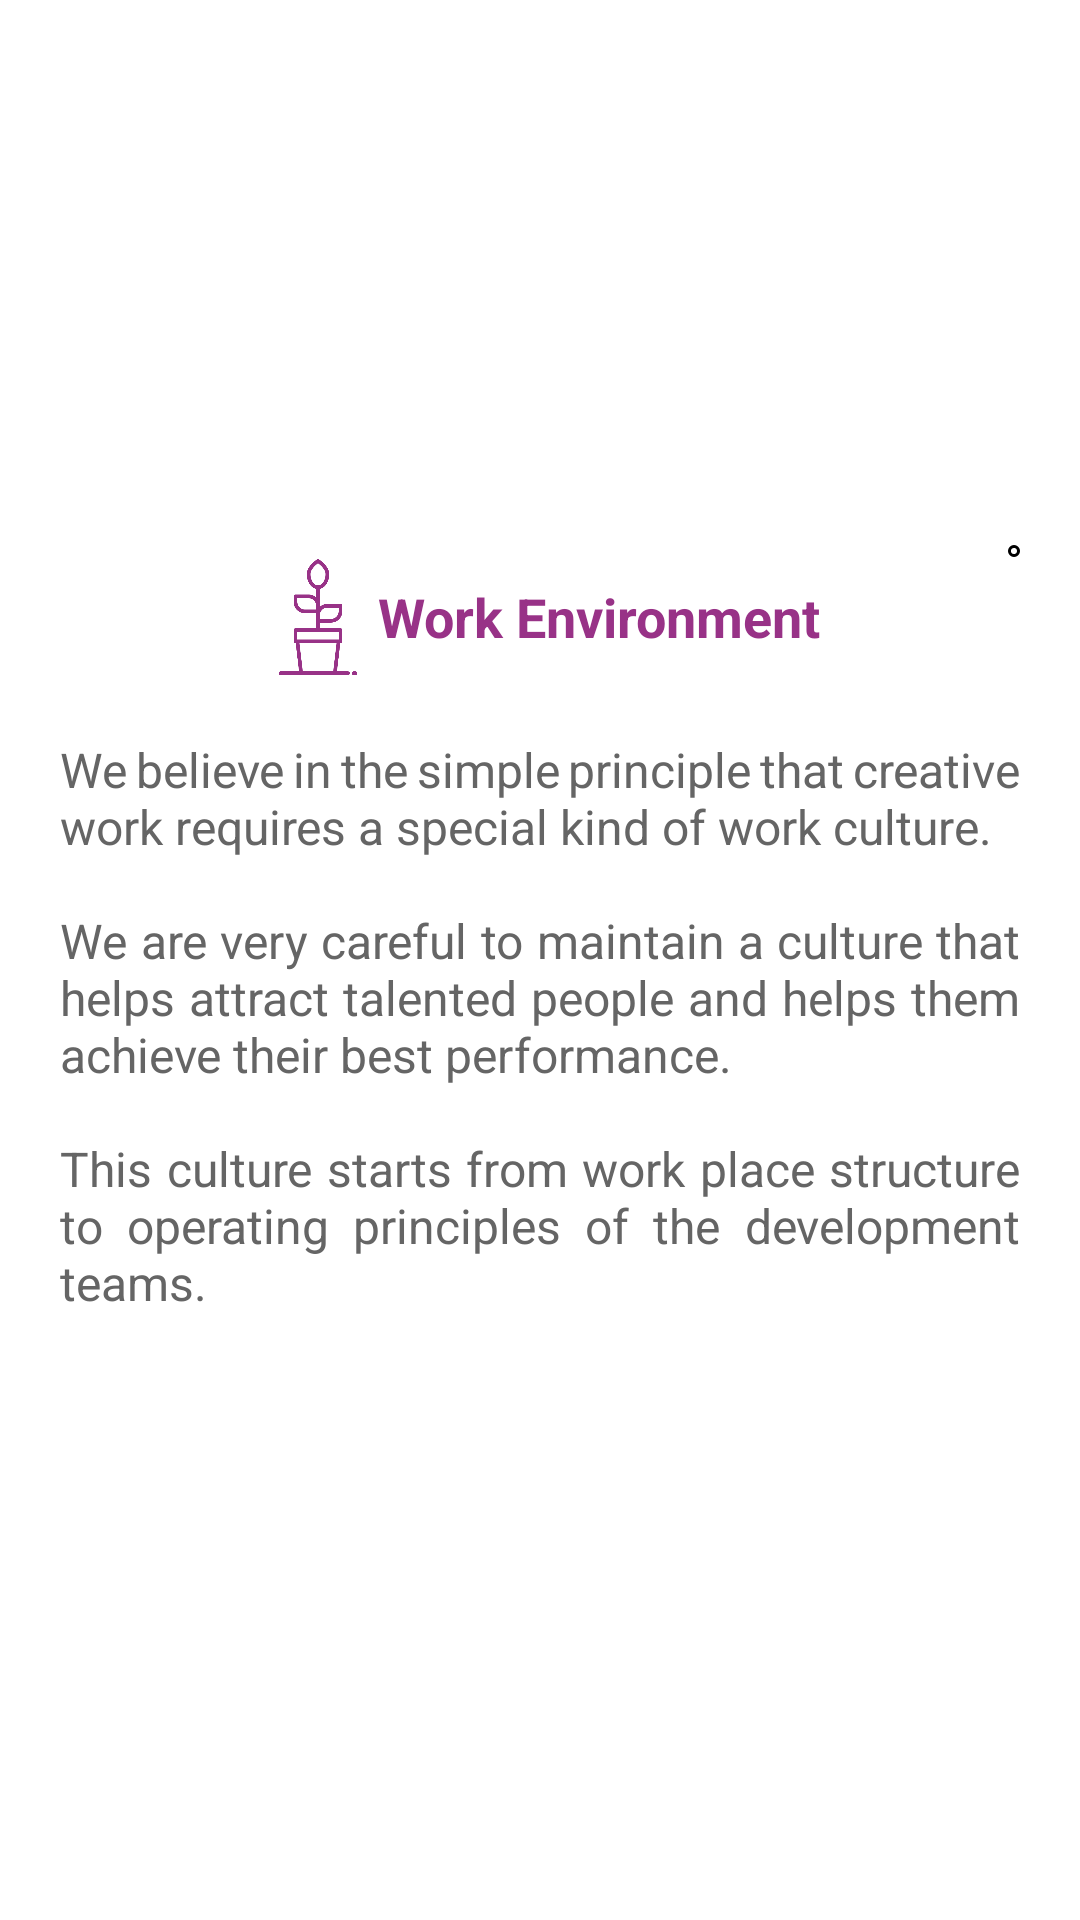

Named icons in this screenshot (1080w x 1920h) and their bounding boxes, [x1,y1,x2,y2]:
plant: [279,559,357,675]
